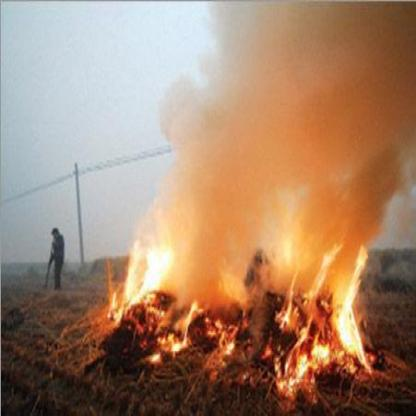fire: (101, 241, 388, 386)
smoke: (133, 0, 416, 272)
